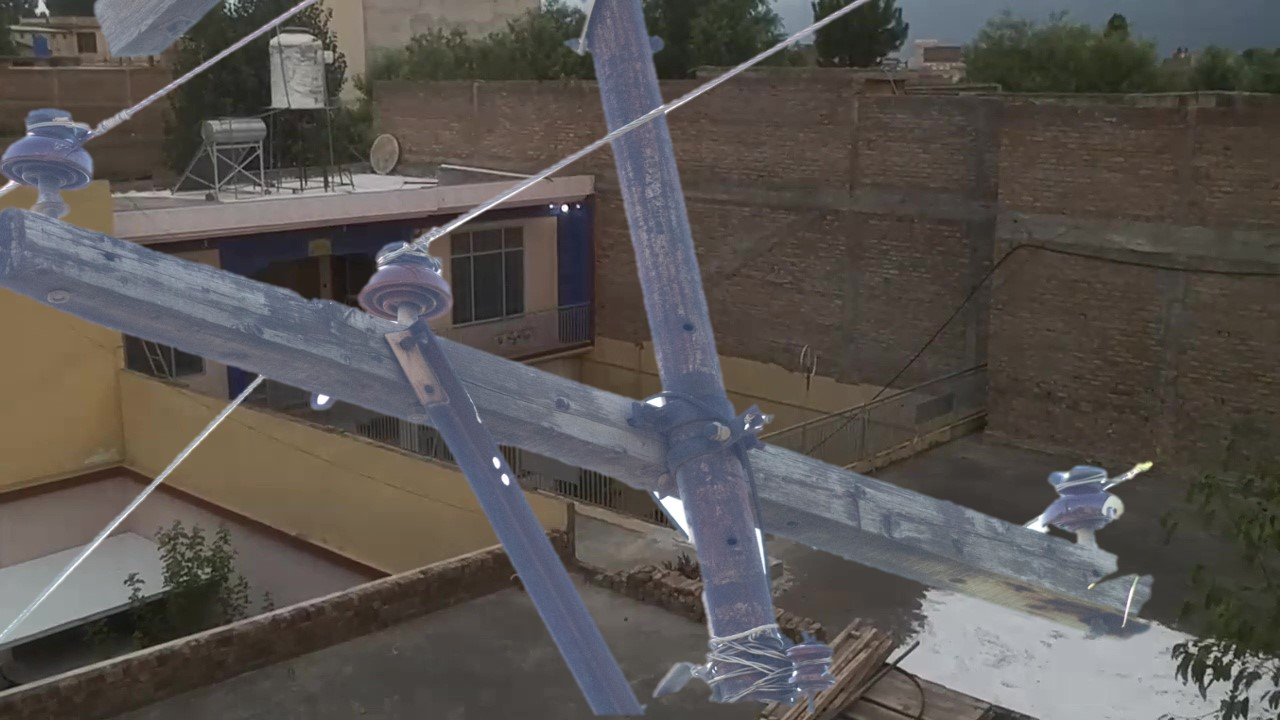defect_pin: (1036, 454, 1133, 536)
insulator_pin: (11, 91, 105, 207), (354, 240, 463, 330)
